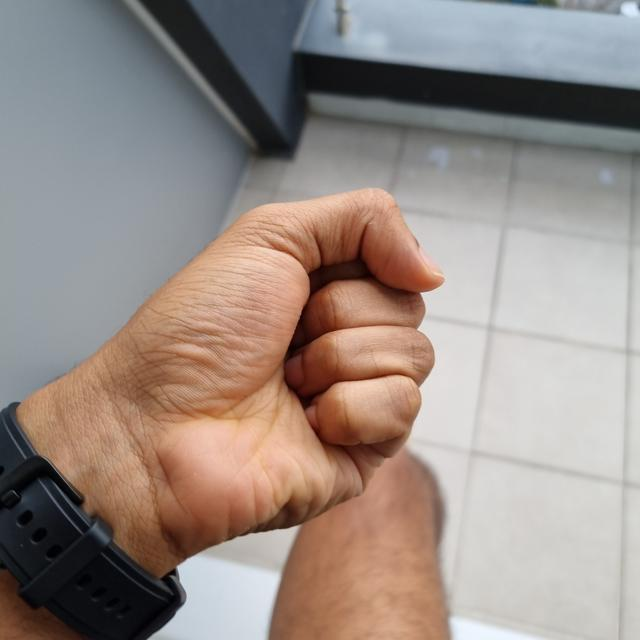Rock: (18, 190, 446, 568)
